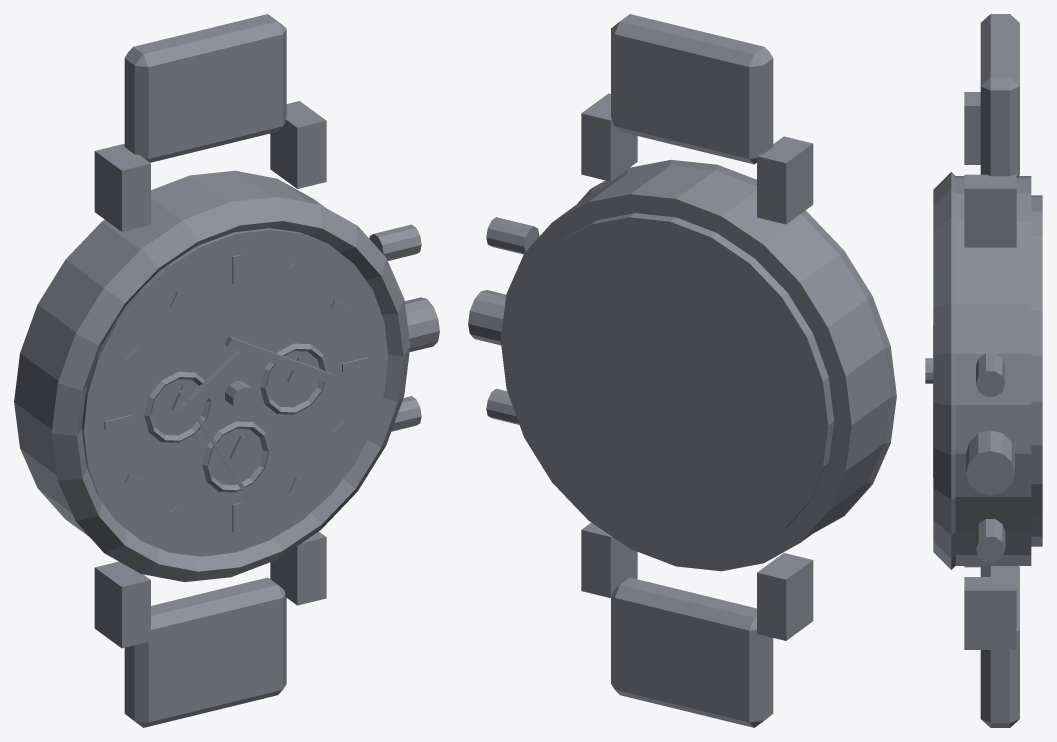
The model's file is rlj_chrono.fbx.
3 views of the same model, side by side, from view 1: azimuth 30°, elevation 25°; view 2: azimuth 150°, elevation 25°; view 3: azimuth 270°, elevation 25° (orthographic). The views are drawn at different scales.
Parts seen in each view (by area): view 1: Esfera__esmalte_azul, Caja__esmalte_negro, Caja__metal_acero, Esfera__esmalte_blanco, Manecillas__metal_acero, Esfera__metal_acero; view 2: Caja__metal_acero, Caja__esmalte_negro; view 3: Caja__metal_acero, Caja__esmalte_negro, Manecillas__metal_acero.
Boxes of the visible parts, x1,y1,x2,y2 form: Esfera__esmalte_azul: [81, 228, 388, 556]; Caja__esmalte_negro: [51, 14, 410, 727]; Caja__metal_acero: [14, 101, 439, 648]; Esfera__esmalte_blanco: [144, 343, 327, 492]; Manecillas__metal_acero: [177, 336, 334, 418]; Esfera__metal_acero: [104, 254, 368, 532]; Caja__metal_acero: [468, 93, 890, 640]; Caja__esmalte_negro: [577, 14, 896, 727]; Caja__metal_acero: [955, 92, 1042, 649]; Caja__esmalte_negro: [933, 14, 1019, 727]; Manecillas__metal_acero: [925, 358, 933, 383].
Size of the model in its own units: 135 by 220 by 36.
